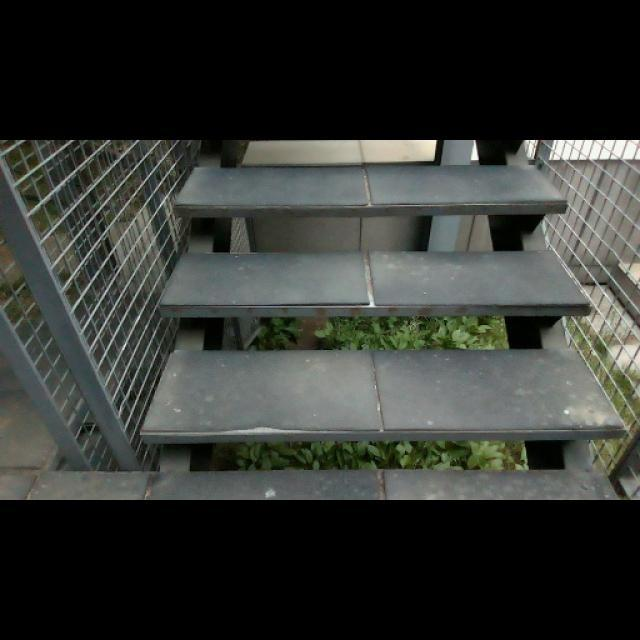stair: (160, 151, 610, 486)
